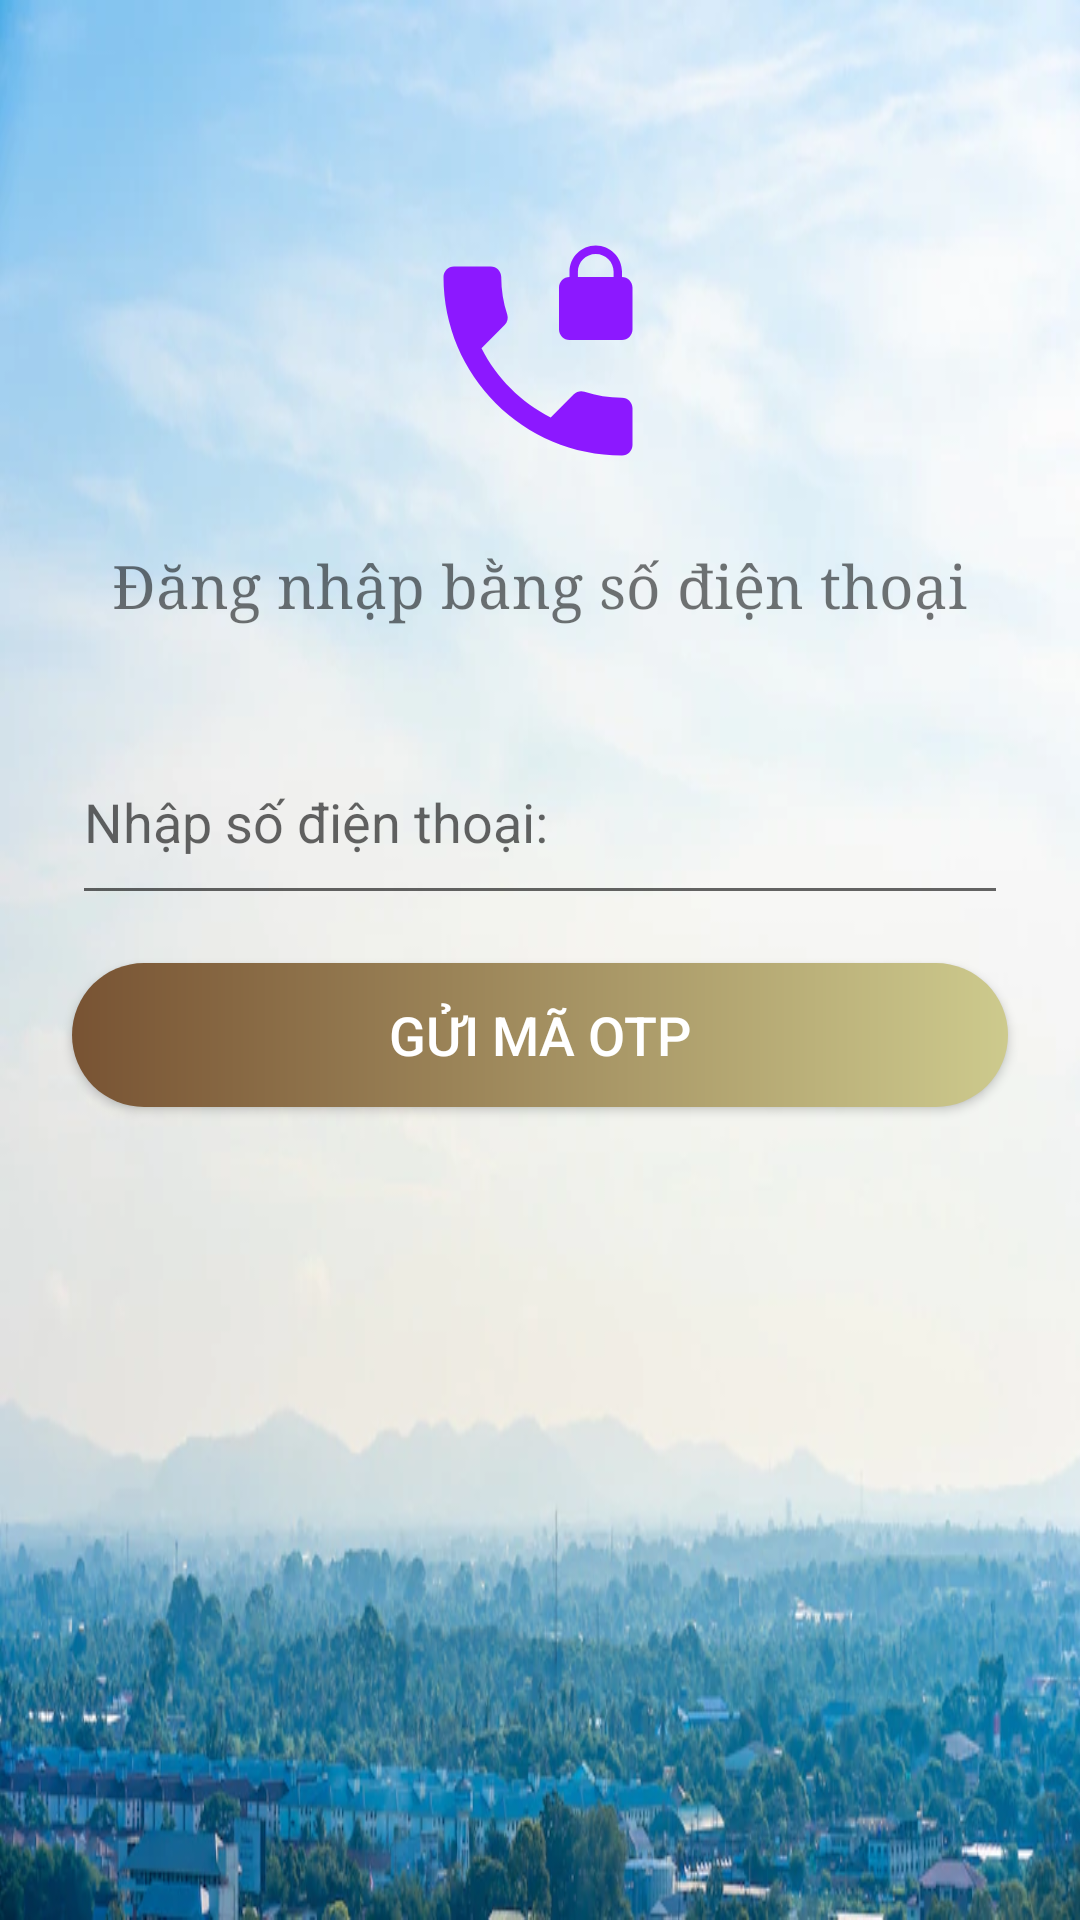

Icons on this 1080px×1920px Android screen, each with the point to tap as (x=x, y=y):
phone locked: (x=538, y=361)
